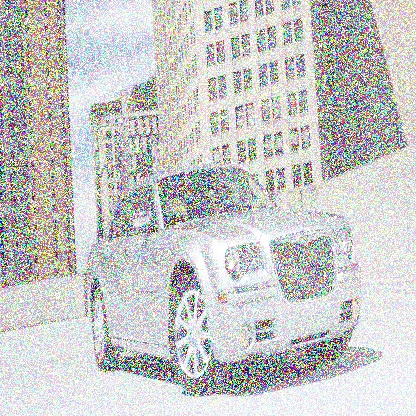Vehicle: (84, 162, 364, 401)
